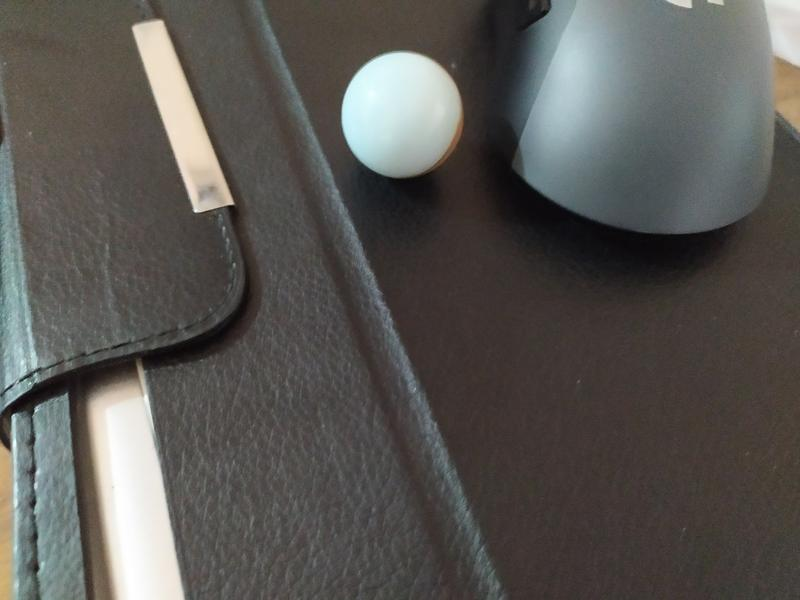Warning: (337, 46, 469, 181)
